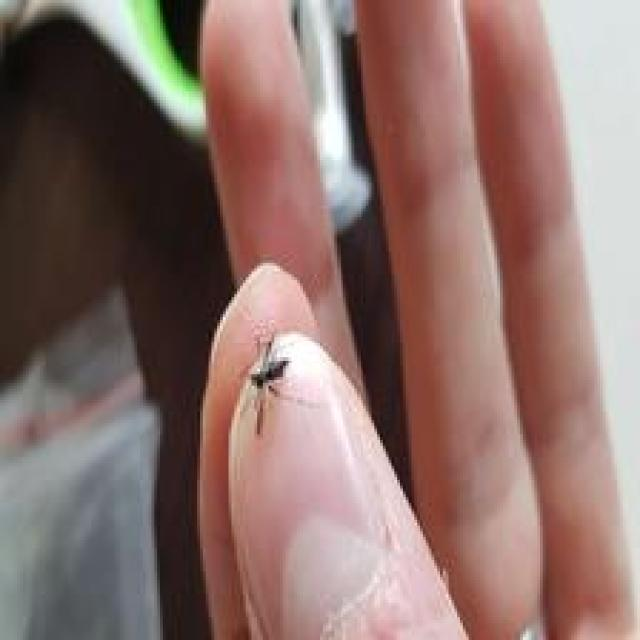Aedes albopictus: (243, 336, 291, 436)
